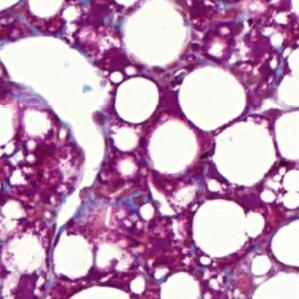steatosis: (191, 201, 266, 258), (180, 68, 243, 128), (114, 75, 158, 123)
